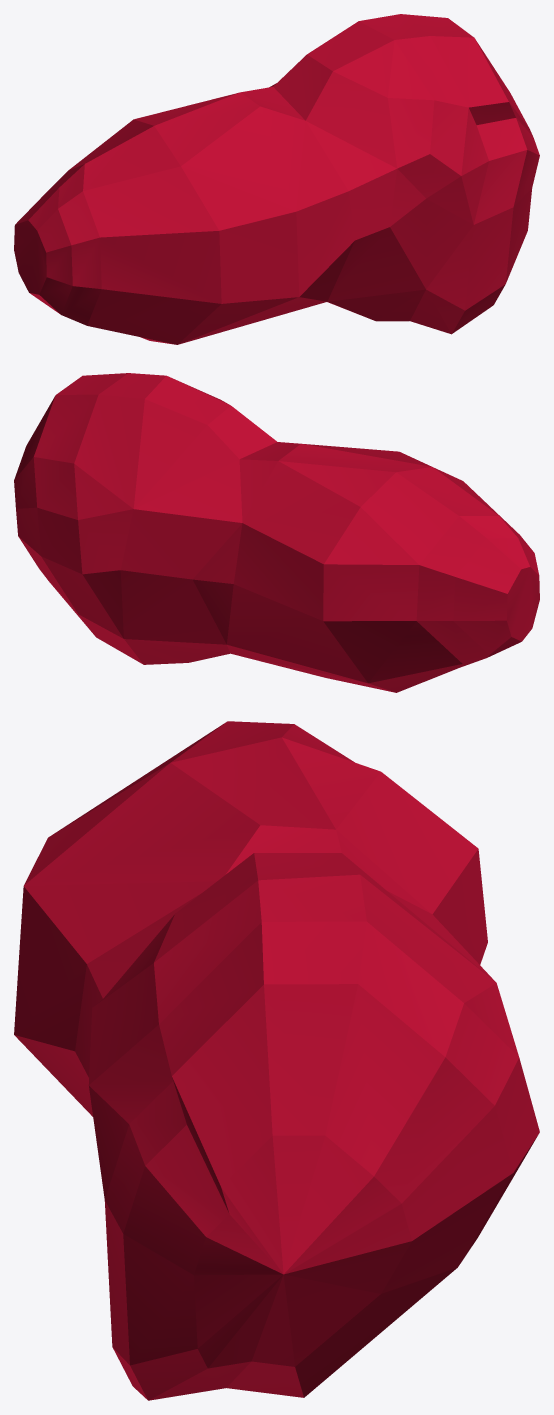
File: left_upper_arm.fbx
3 views of the same model, one above another, from view 1: azimuth 30°, elevation 25°; view 2: azimuth 150°, elevation 25°; view 3: azimuth 270°, elevation 25° (orthographic). The views are drawn at different scales.
Parts seen in each view (by area): view 1: left_upper_arm; view 2: left_upper_arm; view 3: left_upper_arm.
Part boxes in pixels (x1,y1,x2,y2): left_upper_arm: (14, 14, 539, 344); left_upper_arm: (14, 373, 539, 692); left_upper_arm: (14, 721, 539, 1400).
Size of the model in its own units: 0.4047 by 0.2171 by 0.209.
